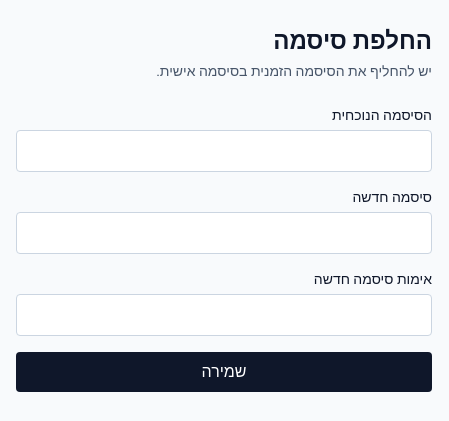
it: ChangePasswordPage › shows the mismatch error when confirm differs from new password
Type "oldpass" into the password field labelled "הסיסמה הנוכחית". click: point(224, 151)
box: [16, 130, 432, 172]
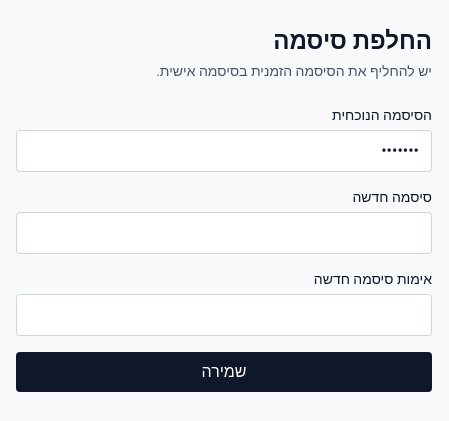
Type "newpass" into the password field labelled "סיסמה חדשה". click: point(224, 233)
box: [16, 212, 432, 254]
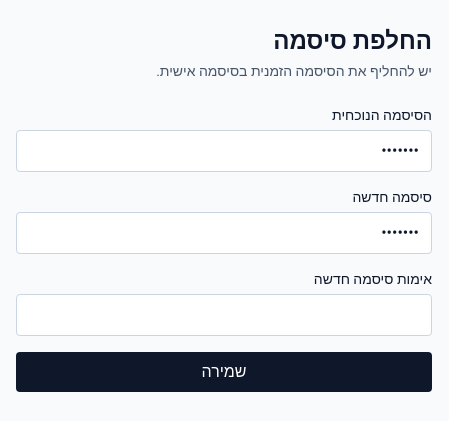
Type "different" into the password field labelled "אימות סיסמה חדשה". click: point(224, 315)
box: [16, 294, 432, 336]
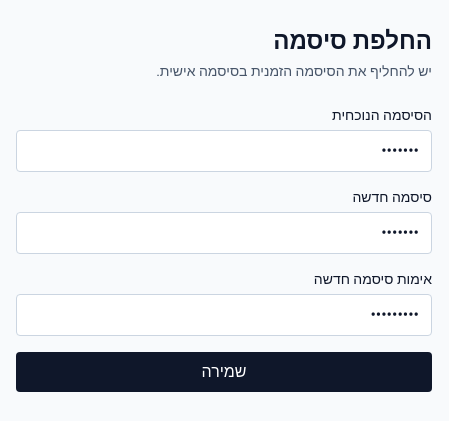
Click the button "שמירה". click: point(224, 372)
box: [16, 352, 432, 392]
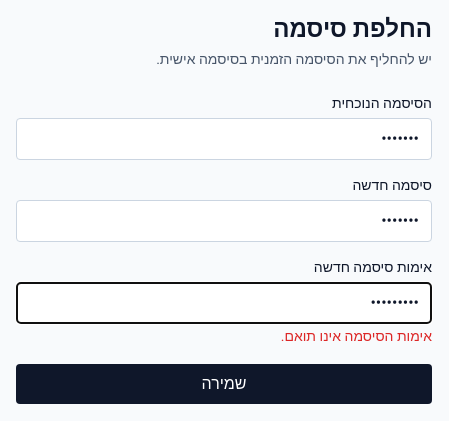
Now the text "אימות הסיסמה אינו תואם." is shown, box [281, 326, 432, 347]
